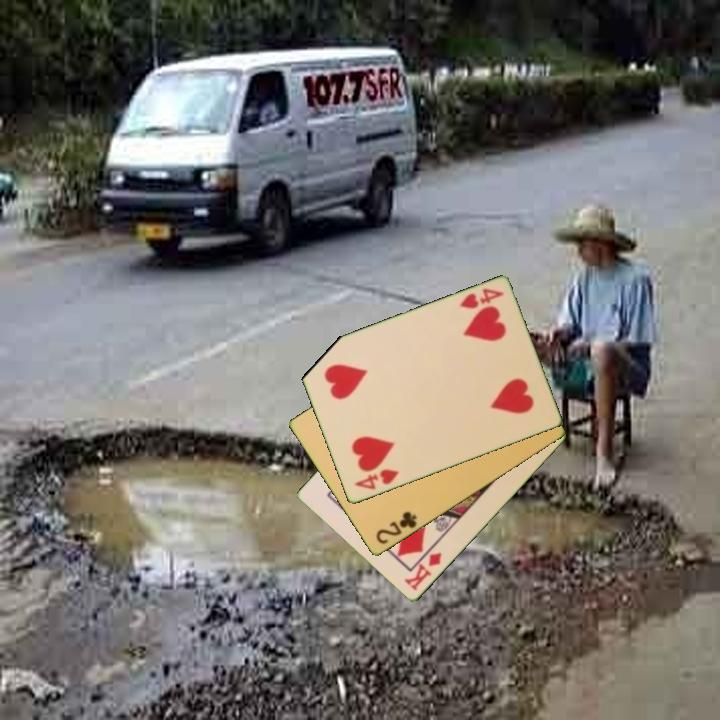2c: (372, 508, 420, 547)
4h: (351, 466, 402, 493), (456, 285, 506, 312)
Kd: (401, 549, 445, 594)
